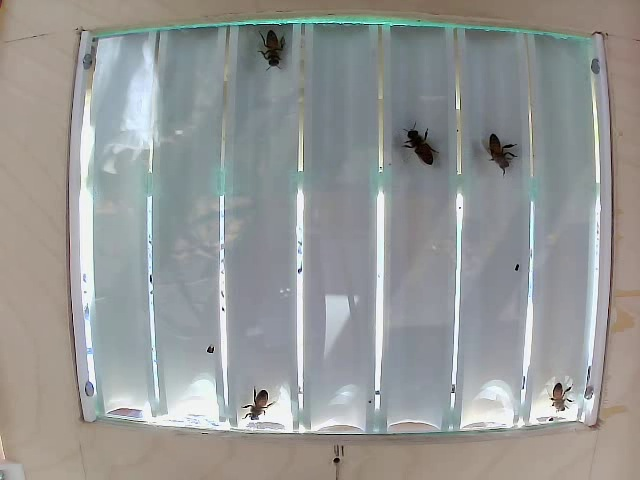bee: (258, 27, 299, 84), (246, 382, 289, 429), (487, 133, 518, 180), (409, 120, 438, 159)
